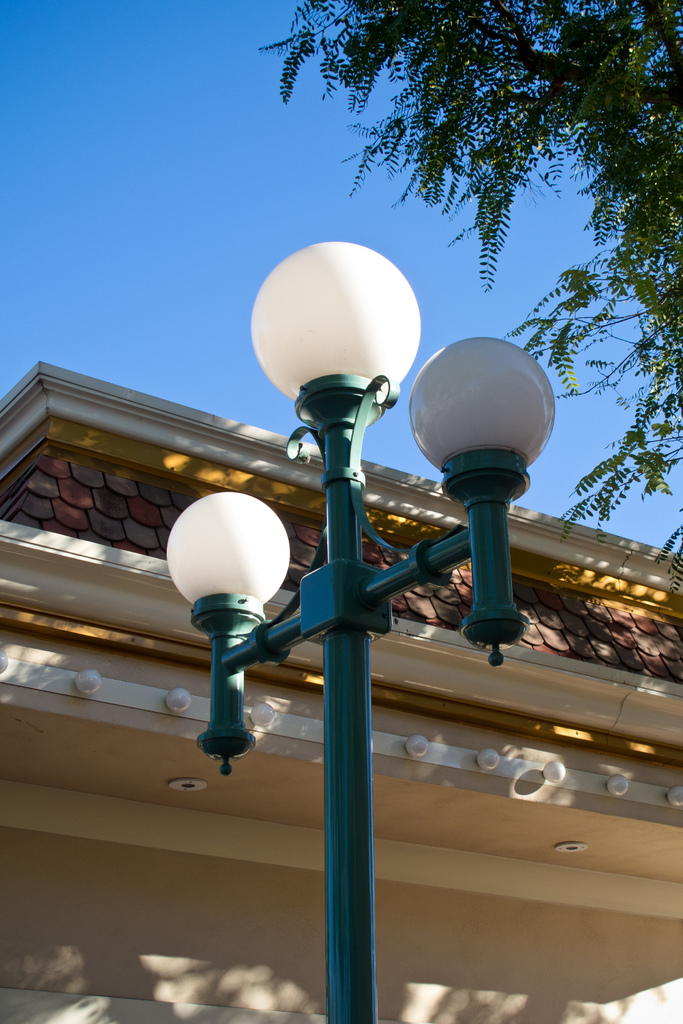Tree: (263, 0, 682, 586)
